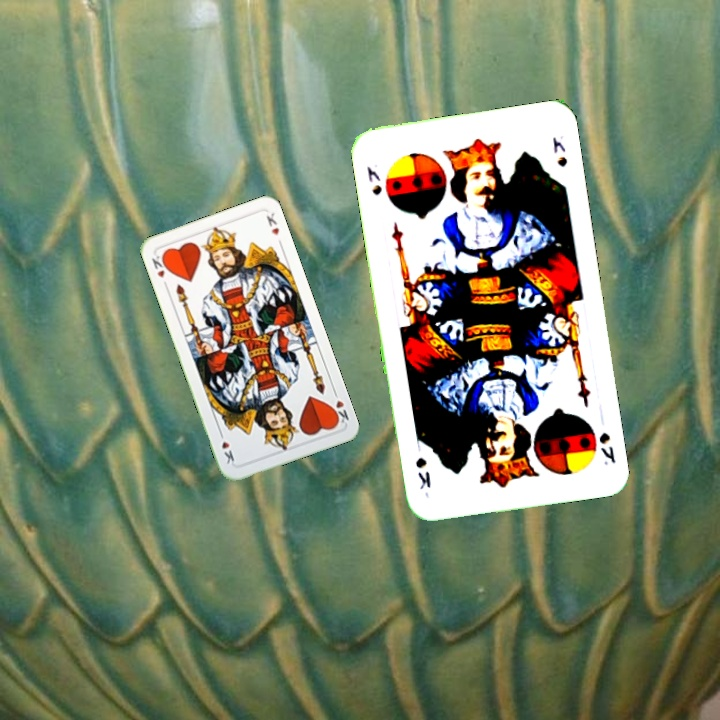HK: (327, 386, 351, 428), (148, 250, 171, 290)
SK: (595, 428, 618, 468), (363, 163, 385, 198)
